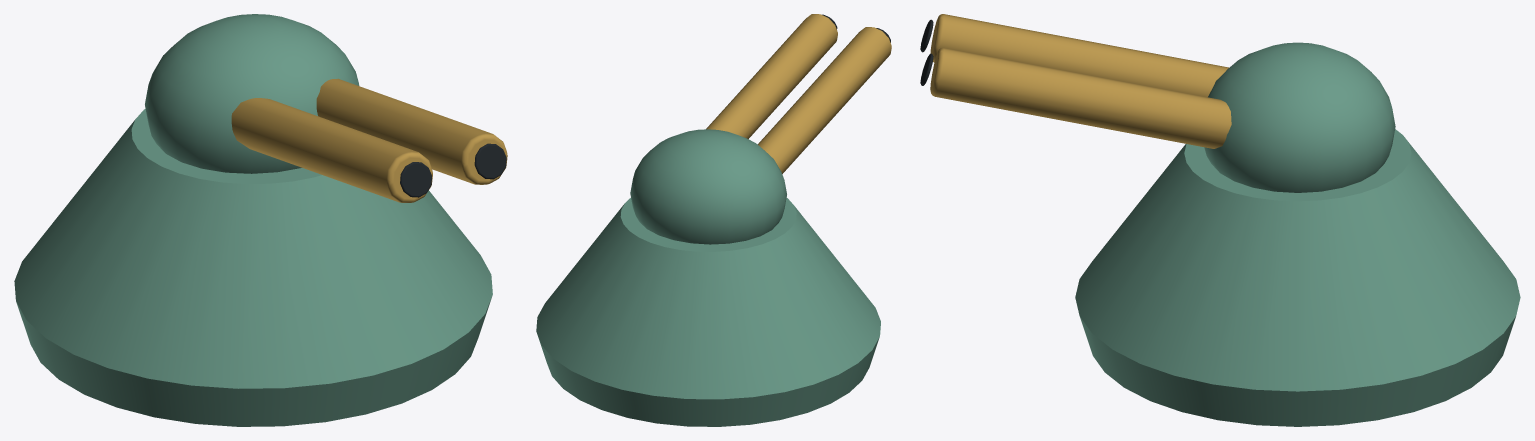
3 renders of one model, left to right at view 1: azimuth 30°, elevation 25°; view 2: azimuth 150°, elevation 25°; view 3: azimuth 270°, elevation 25°, orthographic. The views are drawn at different scales.
Parts seen in each view (by area): view 1: Turret armoured pedestal, Weapon pivot, Weapon barrel, Weapon barrel.001, Weapon dark bore.001, Weapon dark bore; view 2: Turret armoured pedestal, Weapon pivot, Weapon barrel, Weapon barrel.001; view 3: Turret armoured pedestal, Weapon pivot, Weapon barrel.001, Weapon barrel.
Boxes of the visible parts, x1,y1,x2,y2 form: Turret armoured pedestal: (14, 109, 492, 426); Weapon pivot: (145, 14, 359, 173); Weapon barrel: (231, 98, 432, 202); Weapon barrel.001: (316, 78, 507, 184); Weapon dark bore.001: (474, 143, 506, 179); Weapon dark bore: (400, 162, 431, 197); Turret armoured pedestal: (536, 198, 880, 426); Weapon pivot: (630, 129, 786, 244); Weapon barrel: (758, 27, 891, 173); Weapon barrel.001: (706, 14, 837, 138); Turret armoured pedestal: (1075, 129, 1520, 426); Weapon pivot: (1204, 42, 1395, 192); Weapon barrel.001: (930, 48, 1231, 148); Weapon barrel: (930, 14, 1228, 97).
Bounding box in the file's own units: 1.96 × 1.48 × 2.64.
